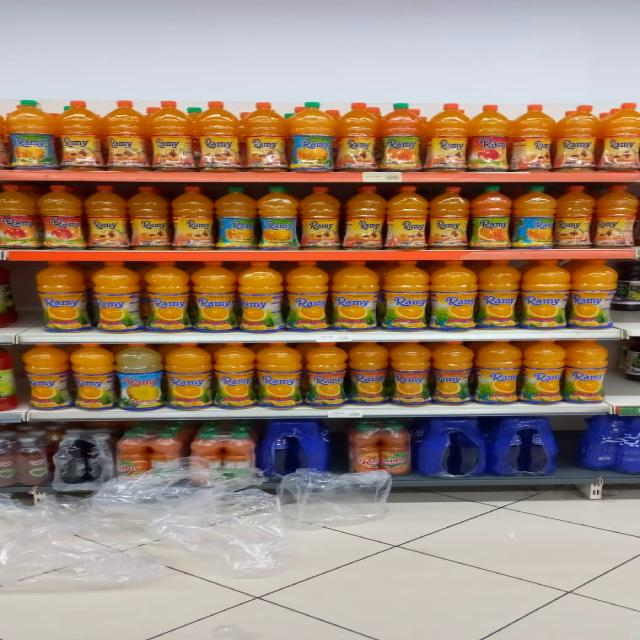Pet Ramy Orange 2L: (24, 260, 90, 330), (193, 259, 246, 330), (568, 262, 623, 328), (69, 341, 117, 412), (336, 262, 384, 330), (250, 342, 300, 407), (563, 338, 613, 401), (430, 262, 476, 330), (382, 262, 430, 327), (285, 262, 332, 328), (478, 338, 524, 404), (90, 262, 134, 330), (146, 262, 189, 329), (170, 344, 214, 409), (478, 263, 520, 328), (208, 342, 252, 404), (523, 340, 566, 402), (305, 346, 347, 406), (435, 341, 475, 403), (242, 260, 278, 328), (344, 344, 382, 405), (526, 264, 561, 328), (397, 341, 431, 405)
pet ramy ananas 2L: (117, 342, 165, 410), (25, 343, 69, 408)
